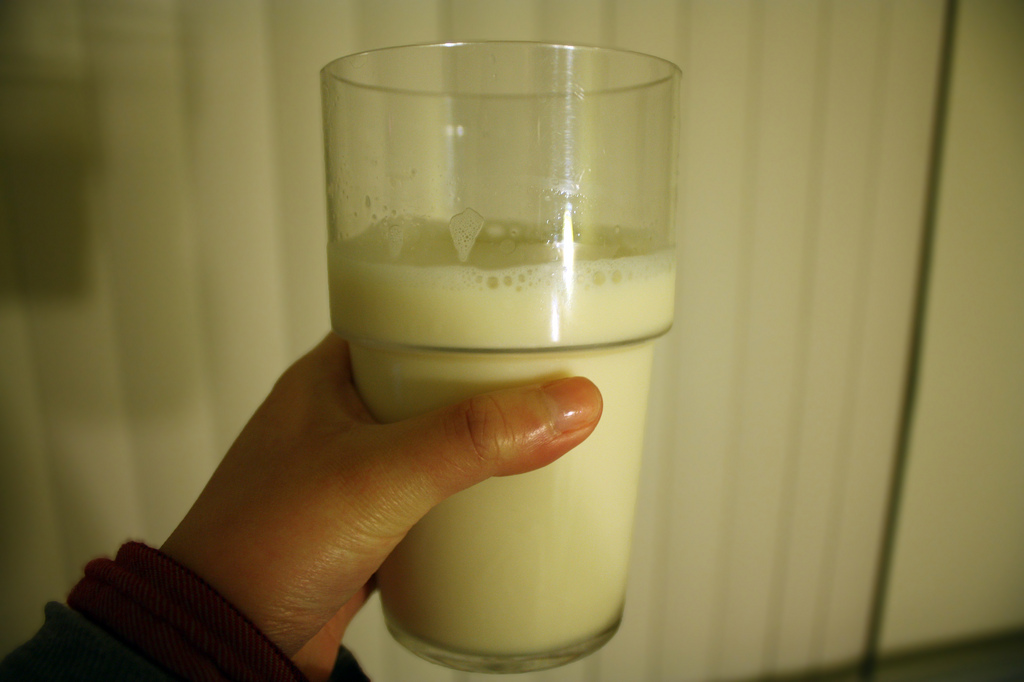glass of milk: (321, 46, 688, 676)
